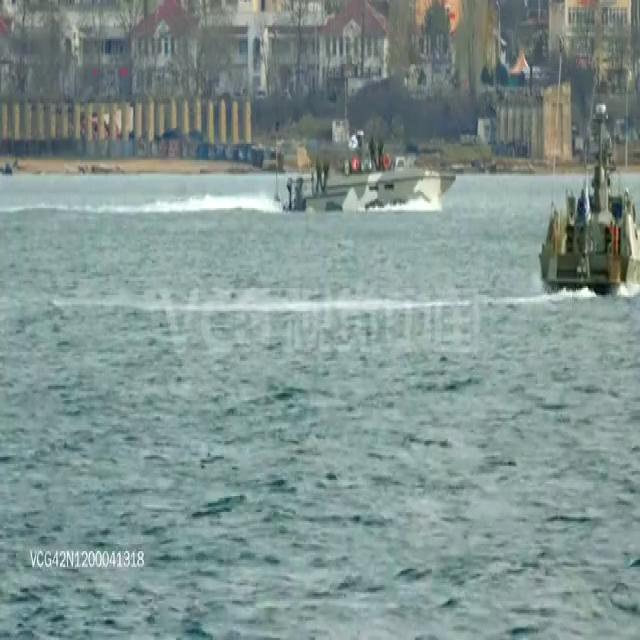houseboat: (539, 102, 640, 294), (280, 132, 449, 210)
